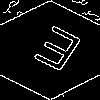E: (25, 25, 85, 81)
